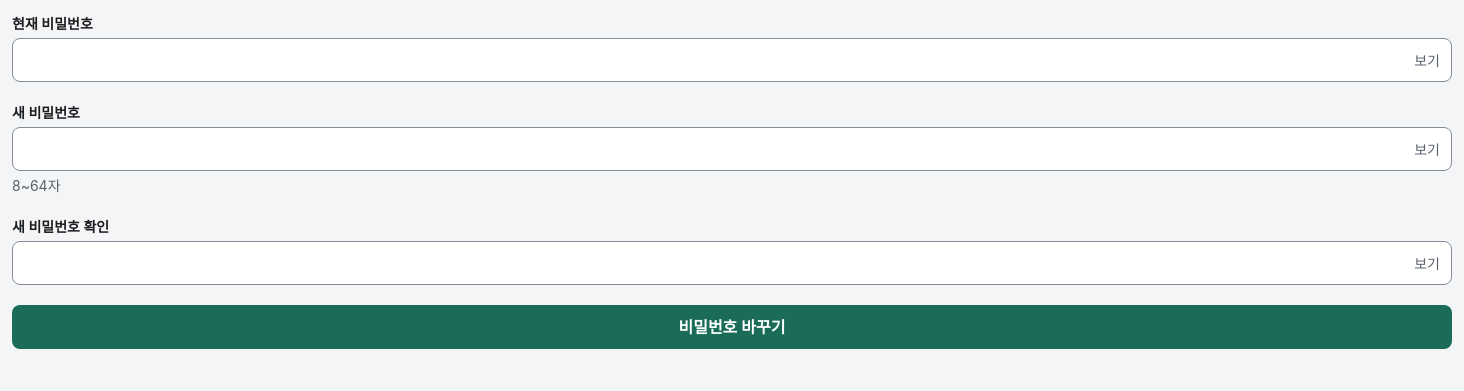
비밀번호 변경 › [AC-MP-09] 현재 비밀번호가 틀리면 그 칸에 알리고 머문다
This screenshot has width=1464, height=391.
Type "wrong one" into the password field labelled "현재 비밀번호" at coordinates (732, 60), box [12,38,1452,82]
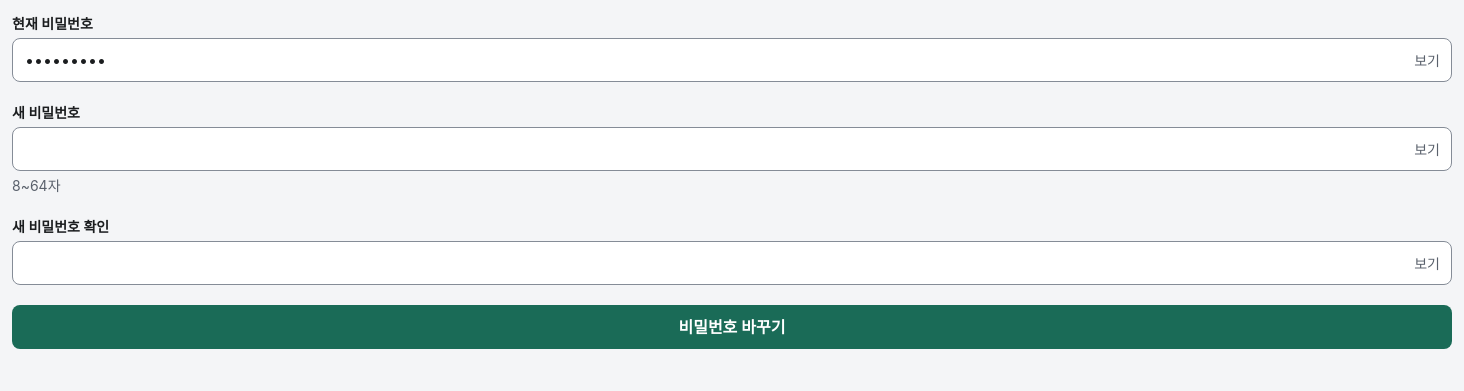
Type "battery staple" into the password field labelled "새 비밀번호" at coordinates (732, 149), box [12,127,1452,171]
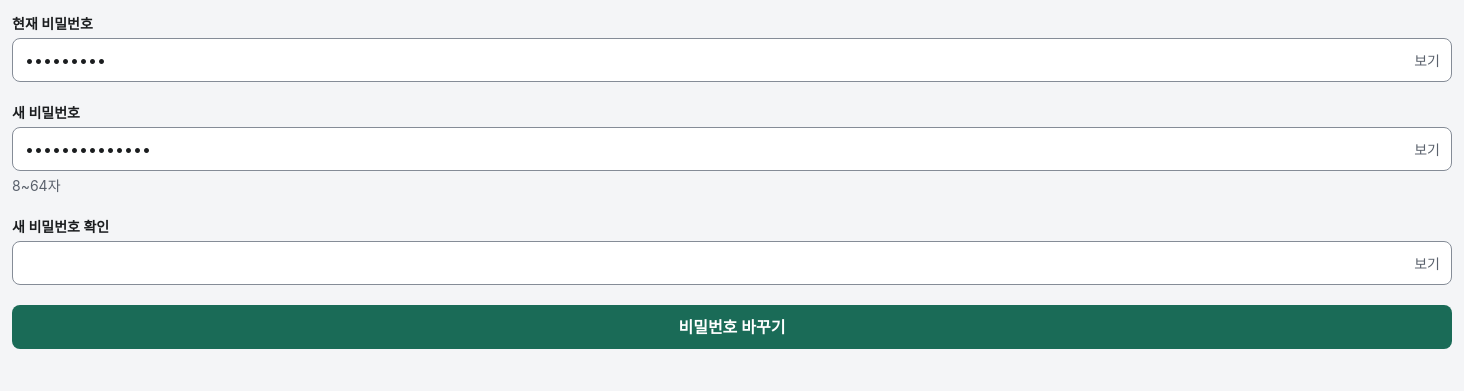
Type "battery staple" into the password field labelled "새 비밀번호 확인" at coordinates (732, 263), box [12,241,1452,285]
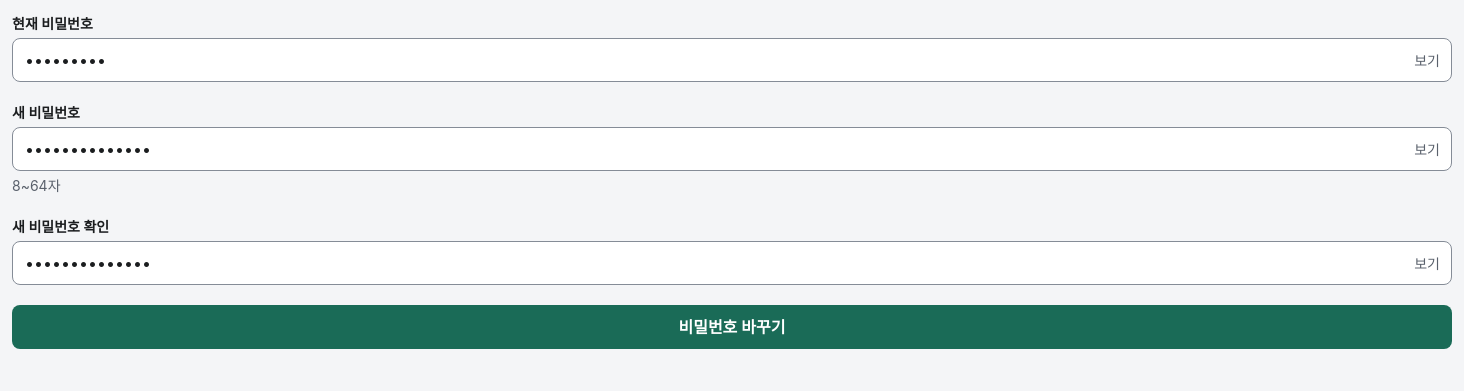
Click the button "비밀번호 바꾸기" at coordinates (732, 327), box [12,305,1452,349]
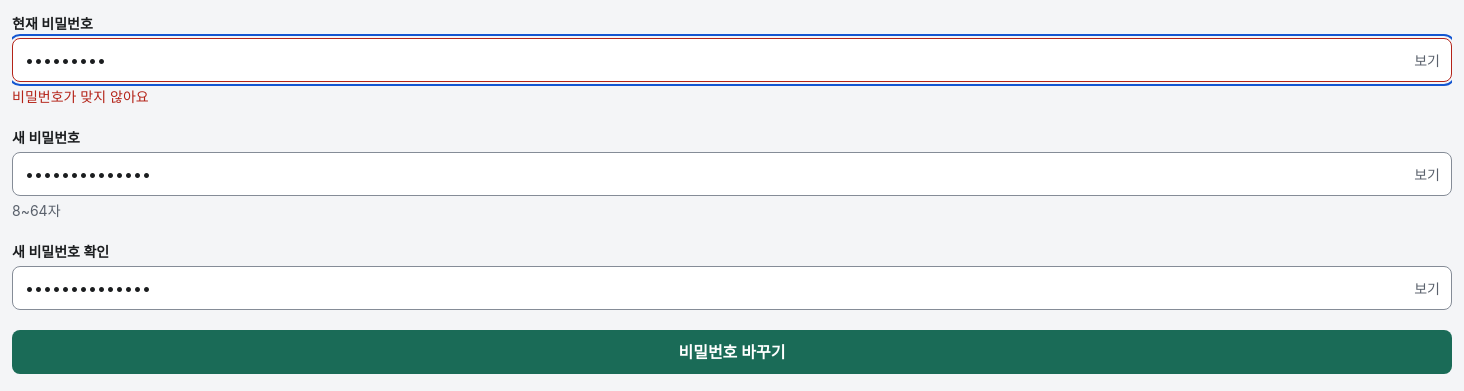
Result: the text "비밀번호가 맞지 않아요" is shown at [12,88,149,105]
